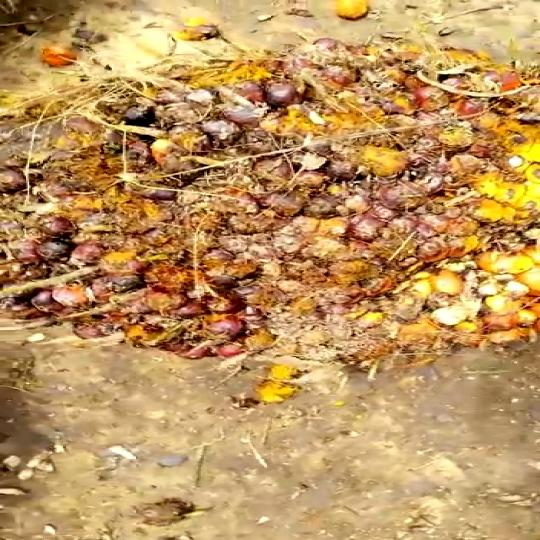masak: (0, 29, 540, 394)
